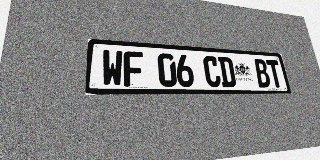0: (157, 53, 177, 87)
6: (175, 54, 195, 87)
B: (253, 59, 271, 87)
C: (202, 56, 222, 87)
D: (218, 57, 237, 87)
F: (123, 51, 144, 87)
T: (266, 60, 284, 87)
W: (101, 49, 123, 87)
